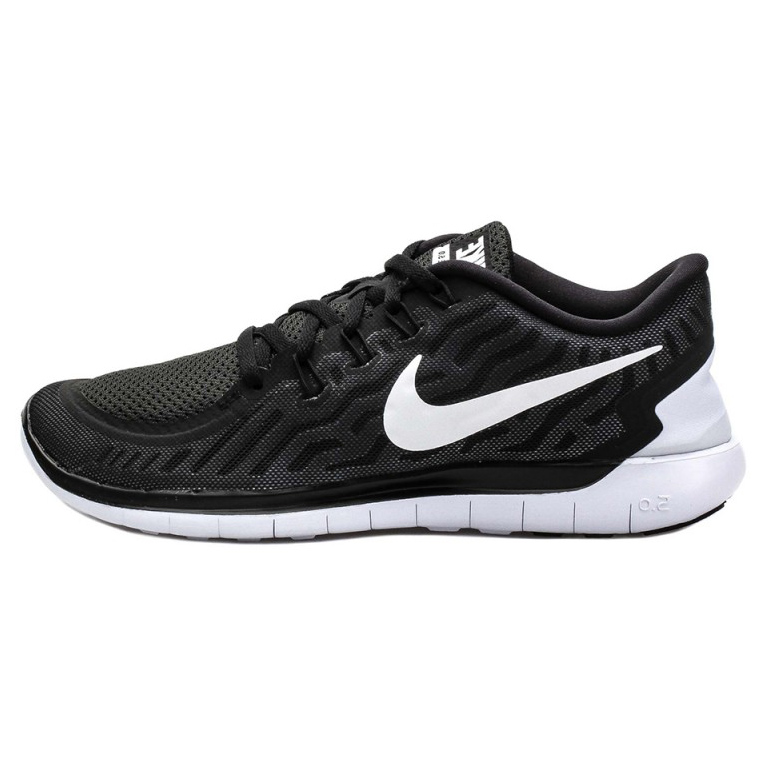Nike: (381, 339, 667, 453)
